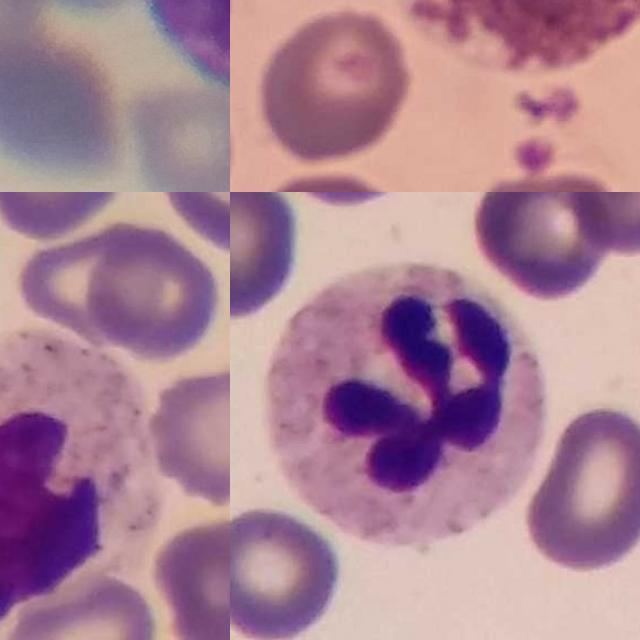Lymphocyte: (386, 0, 640, 67)
Neutrophil: (268, 264, 546, 546), (0, 332, 156, 621)
